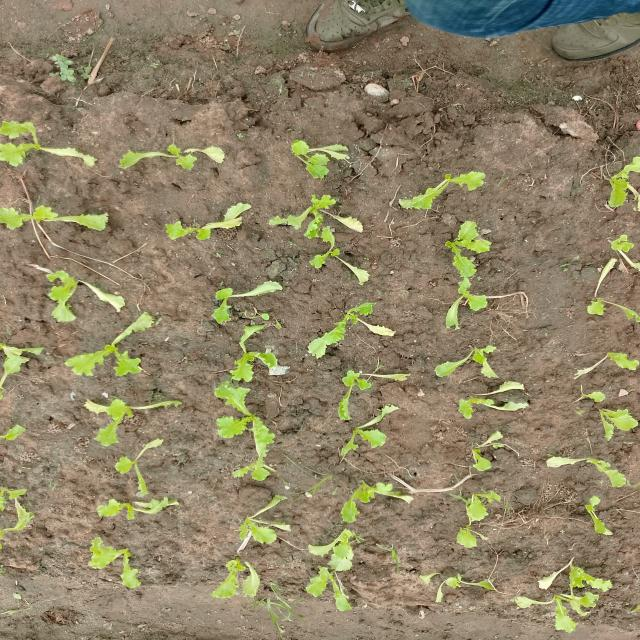Lettuce: (13, 266, 123, 323), (0, 187, 96, 250), (395, 156, 506, 207), (104, 127, 218, 172), (73, 338, 168, 392), (284, 225, 371, 282), (211, 390, 291, 451), (293, 307, 401, 352), (211, 330, 301, 384), (521, 578, 628, 623), (332, 366, 404, 432), (78, 381, 142, 452), (430, 216, 499, 281), (275, 192, 361, 244), (316, 477, 415, 520), (0, 116, 71, 175), (448, 386, 538, 432), (176, 273, 272, 316), (573, 148, 640, 204), (147, 206, 248, 242), (328, 409, 402, 458), (541, 444, 621, 489), (572, 224, 640, 274), (444, 276, 516, 323), (562, 392, 640, 434), (286, 132, 348, 184), (80, 539, 145, 587), (198, 557, 279, 595), (108, 446, 169, 496), (446, 433, 524, 472), (306, 530, 386, 568), (434, 340, 513, 378), (234, 497, 284, 554), (423, 570, 494, 610), (570, 286, 640, 326), (554, 494, 618, 534), (445, 498, 495, 546), (83, 498, 167, 526), (573, 346, 640, 374), (0, 484, 33, 540), (0, 328, 23, 406), (0, 408, 20, 456)
